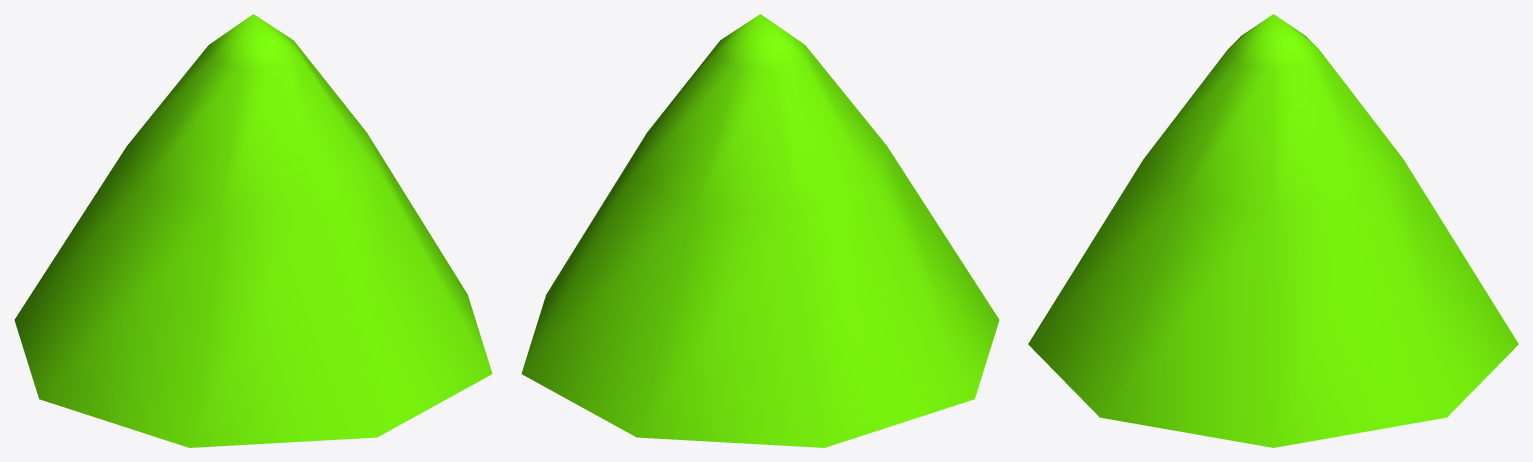
The model's file is PlayerProjectile_Outer.fbx.
3 renders of one model, left to right at view 1: azimuth 30°, elevation 25°; view 2: azimuth 150°, elevation 25°; view 3: azimuth 270°, elevation 25°, orthographic.
Parts seen in each view (by area): view 1: PlayerProjectile_Outer; view 2: PlayerProjectile_Outer; view 3: PlayerProjectile_Outer.
Part boxes in pixels (bbox=[...]): PlayerProjectile_Outer: bbox=[14, 14, 492, 447]; PlayerProjectile_Outer: bbox=[521, 14, 999, 447]; PlayerProjectile_Outer: bbox=[1028, 14, 1518, 447].
Size of the model in its own units: 208 by 154 by 208.
